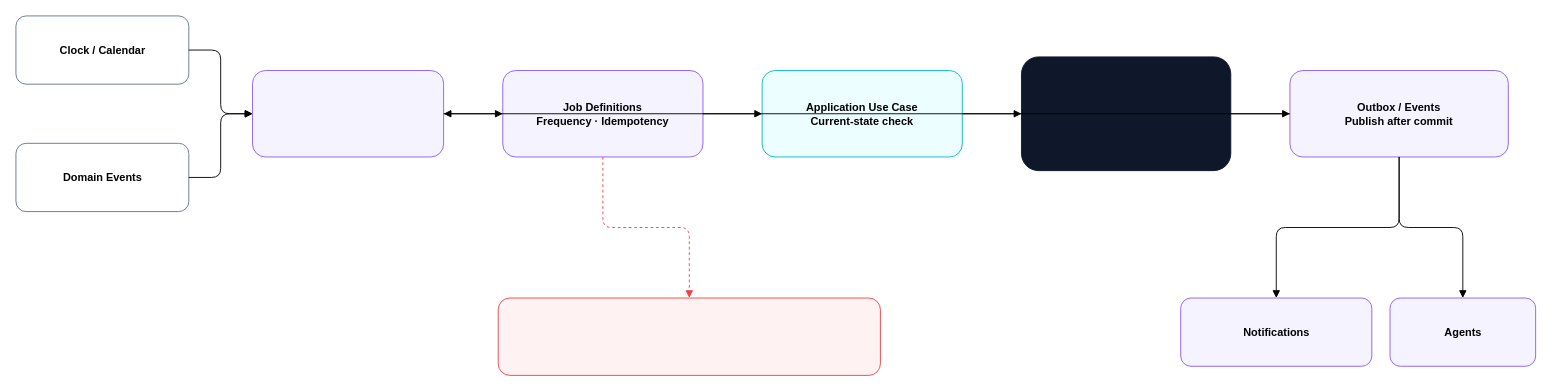
This 1552x391 diagram has some shape labels left out. Here are the shapes that lost their labels. From the top down, the centre of each, then its label:
At point (348, 113): "Scheduler Engine".
At point (1126, 113): "Domain Rules Accept · Reject · No-op".
At point (688, 336): "Direct Repository / Aggregate Mutation Forbidden".
